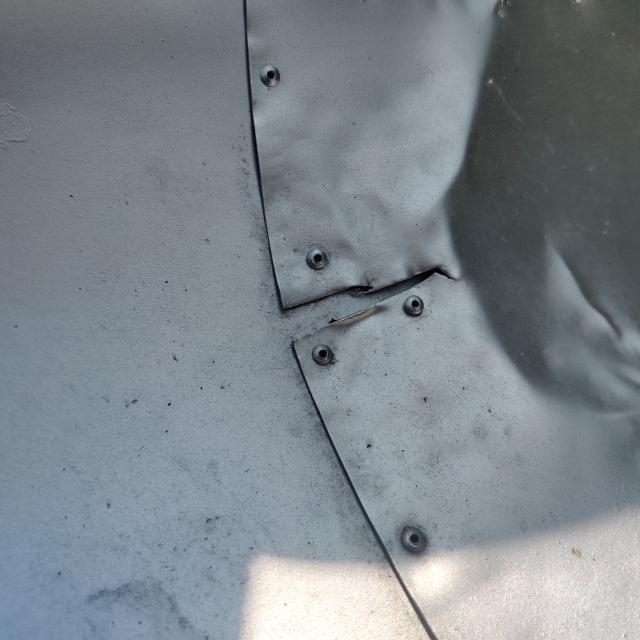crack: (271, 248, 469, 366)
dent: (407, 0, 640, 448)
